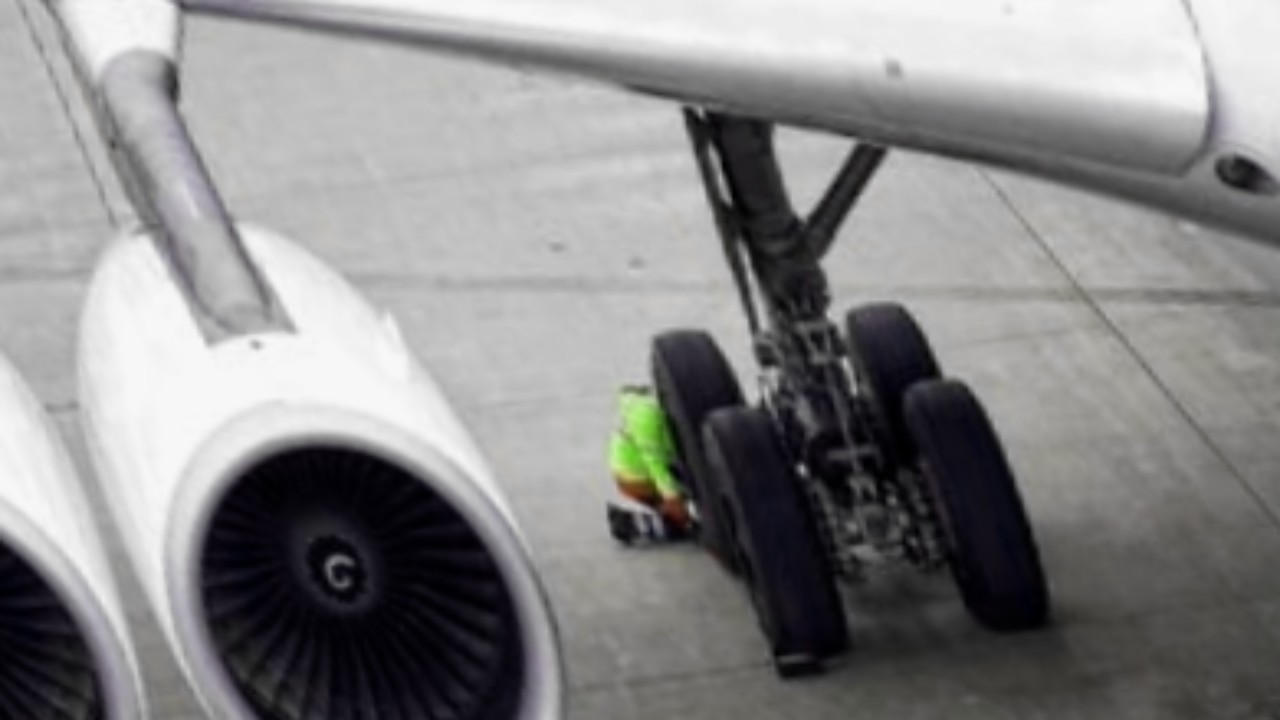chock: (755, 632, 837, 685)
wheel: (676, 388, 863, 676), (882, 362, 1064, 639), (633, 322, 803, 582), (827, 294, 964, 469)
